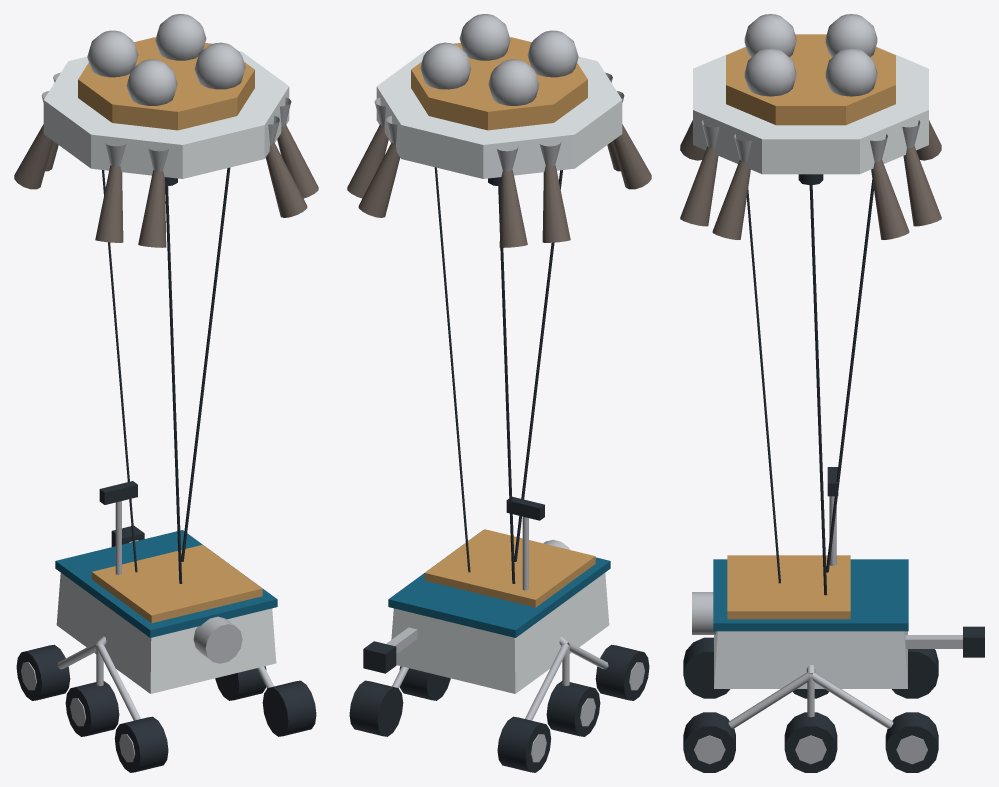
The model's file is lander_sky_crane.glb.
3 views of the same model, side by side, from view 1: azimuth 30°, elevation 25°; view 2: azimuth 150°, elevation 25°; view 3: azimuth 270°, elevation 25° (orthographic). The views are drawn at different scales.
Parts seen in each view (by area): view 1: lander_sky_crane_descent_stage_mesh, lander_sky_crane_rover_mesh; view 2: lander_sky_crane_descent_stage_mesh, lander_sky_crane_rover_mesh; view 3: lander_sky_crane_descent_stage_mesh, lander_sky_crane_rover_mesh.
Boxes of the visible parts, x1,y1,x2,y2 form: lander_sky_crane_descent_stage_mesh: [14, 14, 318, 583]; lander_sky_crane_rover_mesh: [16, 481, 316, 772]; lander_sky_crane_descent_stage_mesh: [347, 14, 651, 583]; lander_sky_crane_rover_mesh: [349, 496, 649, 772]; lander_sky_crane_descent_stage_mesh: [680, 14, 941, 595]; lander_sky_crane_rover_mesh: [683, 467, 984, 772].
Size of the model in its own units: 2.97 by 8.71 by 3.46.
